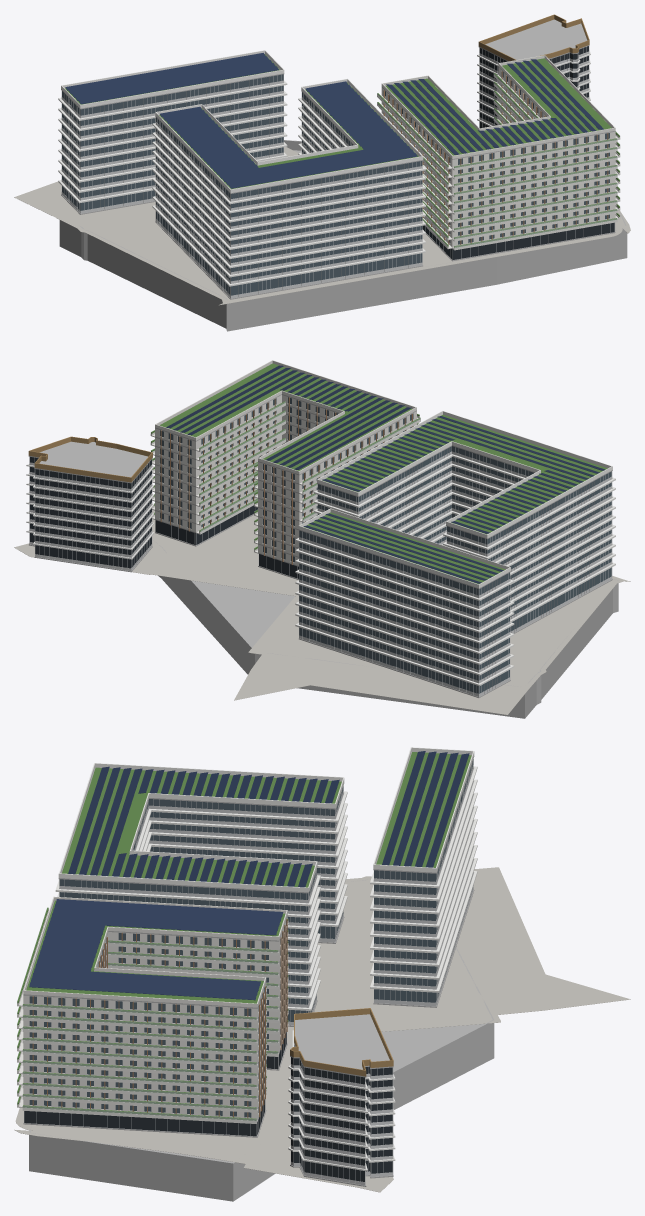
The picture shows the model from 3 angles, top to bottom: view 1: azimuth 30°, elevation 25°; view 2: azimuth 150°, elevation 25°; view 3: azimuth 270°, elevation 25°; orthographic projection. The views are drawn at different scales.
Visible parts, largest first — view 1: HW PV array, Site, RE PV array, RE green roof, O PV array, HW parapet, U-B1 ext wall 5, U-B2 ext wall 5, HW-GF curtain wall, E roof slab, RE parapet, U-B3 ext wall 5 (+116 smaller); view 2: Site, HW green roof, HW PV array, RE green roof, RE PV array, HW parapet, U-B3 slab, O green roof, RE parapet, O PV array, E roof slab, HW-L11 curtain wall (+83 smaller); view 3: Site, RE PV array, HW PV array, HW green roof, HW parapet, O PV array, E roof slab, RE parapet, RE-GF curtain wall, HW-L11 curtain wall, O green roof, U-B3 slab (+87 smaller).
Part boxes in pixels (x1,y1,x2,y2): HW PV array: (160,81,417,188); Site: (14,147,630,305); RE PV array: (386,59,603,154); RE green roof: (385,58,611,155); O PV array: (65,53,278,104); HW parapet: (155,78,423,192); U-B1 ext wall 5: (227,275,496,330); U-B2 ext wall 5: (227,265,496,320); HW-GF curtain wall: (156,211,422,295); E roof slab: (478,19,589,61); RE parapet: (381,55,615,158); U-B3 ext wall 5: (227,254,496,310); Site: (14,510,630,714); HW green roof: (322,414,607,534); HW PV array: (322,416,605,533); RE green roof: (159,363,412,470); RE PV array: (166,365,411,469); HW parapet: (317,411,612,538); U-B3 slab: (180,579,618,697); O green roof: (304,512,505,584); RE parapet: (155,360,416,474); O PV array: (303,513,503,583); E roof slab: (28,441,152,483); HW-L11 curtain wall: (318,446,611,544); Site: (14,867,630,1192); RE PV array: (29,899,283,1000); HW PV array: (68,766,339,887); HW green roof: (62,767,341,887); HW parapet: (58,763,344,892); O PV array: (382,751,469,867); E roof slab: (290,1014,393,1077); RE parapet: (23,896,287,1007); RE-GF curtain wall: (24,1032,286,1136); HW-L11 curtain wall: (59,787,343,899); O green roof: (376,752,471,867); U-B3 slab: (29,1024,494,1175).
Bounding box in the file's own units: 192 × 49 × 154.
